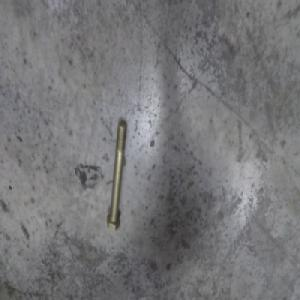Bolt: (105, 117, 127, 236)
